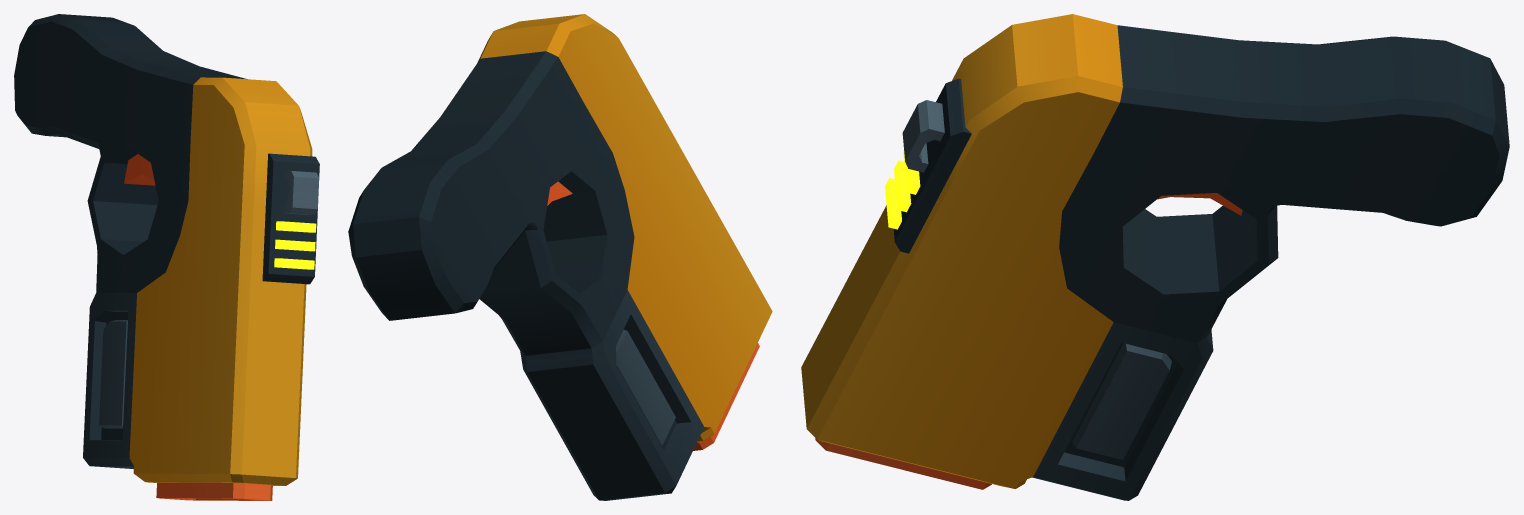
File: Level2Gun.fbx
3 views of the same model, side by side, from view 1: azimuth 30°, elevation 25°; view 2: azimuth 150°, elevation 25°; view 3: azimuth 270°, elevation 25° (orthographic). The views are drawn at different scales.
Visible parts, largest first — view 1: Gun_04_Yellow; view 2: Gun_04_Yellow; view 3: Gun_04_Yellow.
Boxes of the visible parts, x1,y1,x2,y2 form: Gun_04_Yellow: [14, 14, 319, 500]; Gun_04_Yellow: [348, 14, 772, 500]; Gun_04_Yellow: [801, 14, 1509, 500].
Bounding box in the file's own units: 20.68 × 42.47 × 51.87.
1 material, 1 textured.
